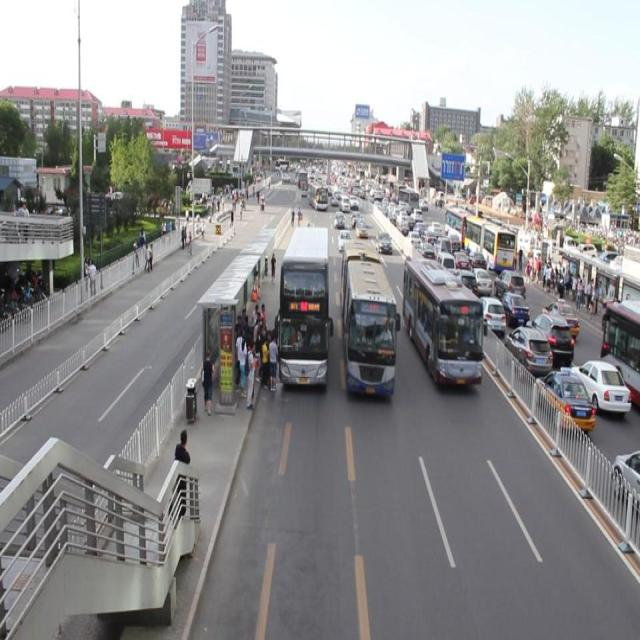car: (375, 230, 391, 252), (338, 230, 351, 250), (355, 220, 367, 240), (334, 209, 345, 225), (348, 191, 357, 207), (330, 190, 338, 207), (350, 212, 360, 224)
truck: (340, 192, 350, 212)
van: (403, 252, 480, 388), (342, 238, 393, 398), (279, 228, 328, 384), (309, 183, 326, 210)
